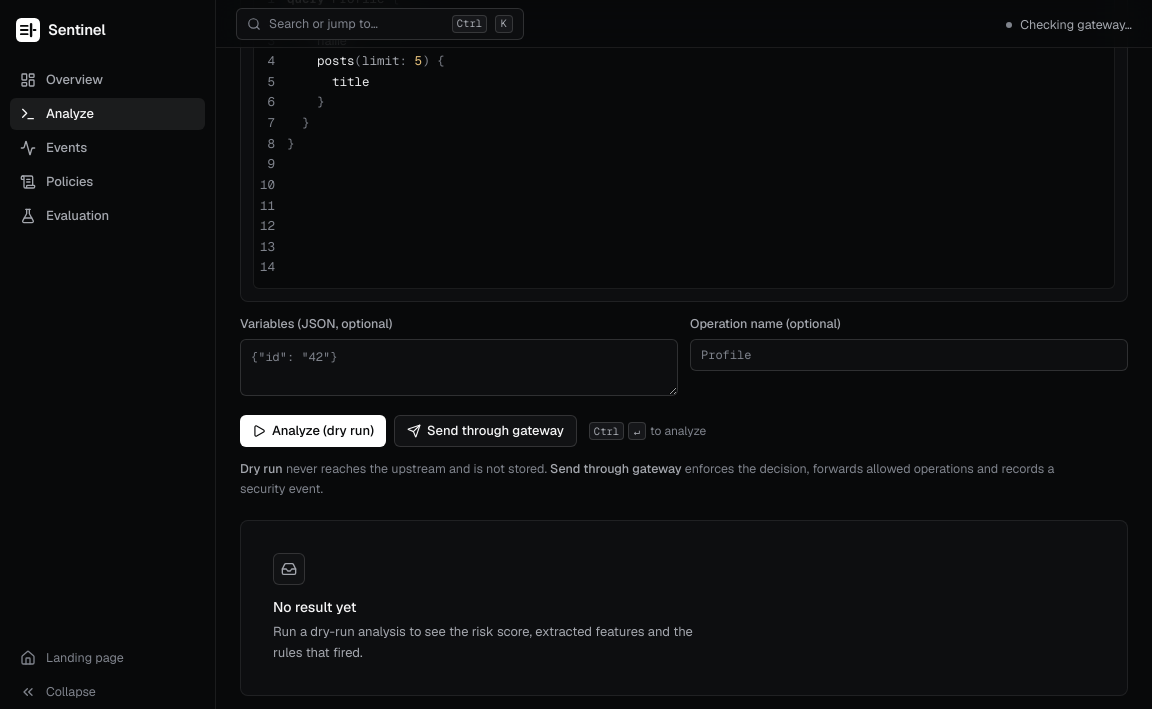
Scenario: sending through the gateway shows the enforced block and links to the event
The image size is (1152, 709).
(page scrolled)
Click the button "Send through gateway".
click(485, 431)  # box [394,415,577,447]
(page scrolled)
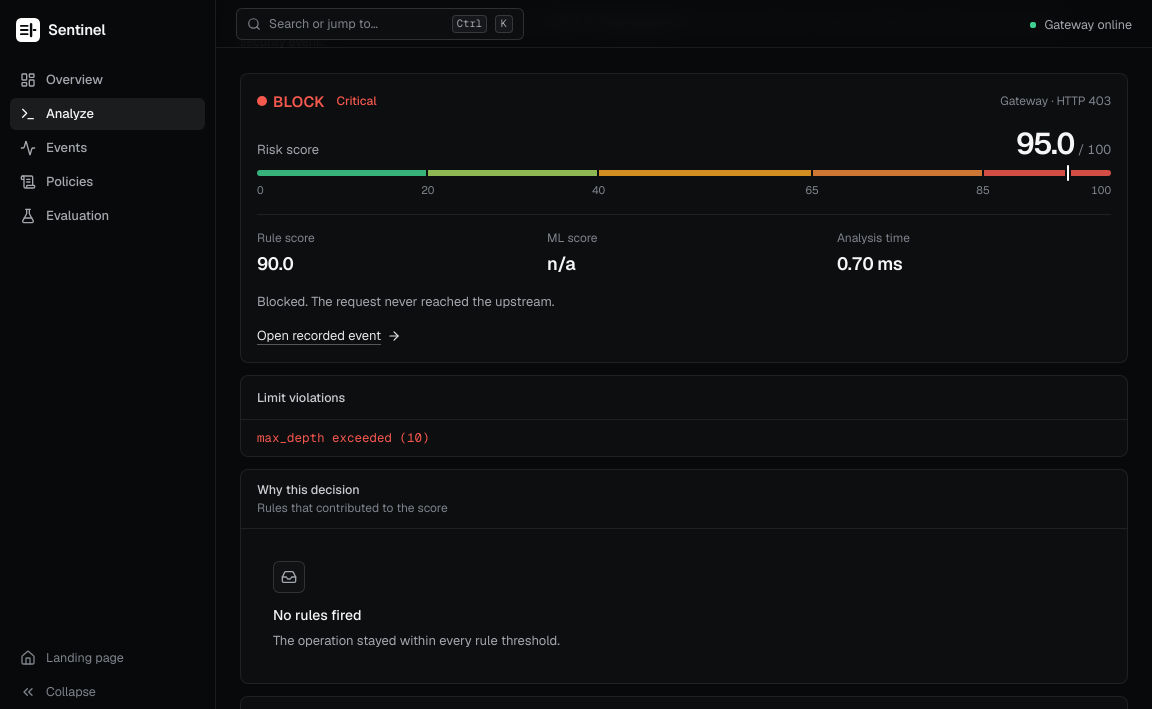
Now the element with test id "result" shows "BLOCK", box [273,92,325,111]
Now the element with test id "result" shows "HTTP 403", box [1000,93,1111,109]
Now the element with test id "result" shows "never reached the upstream", box [257,293,554,310]
